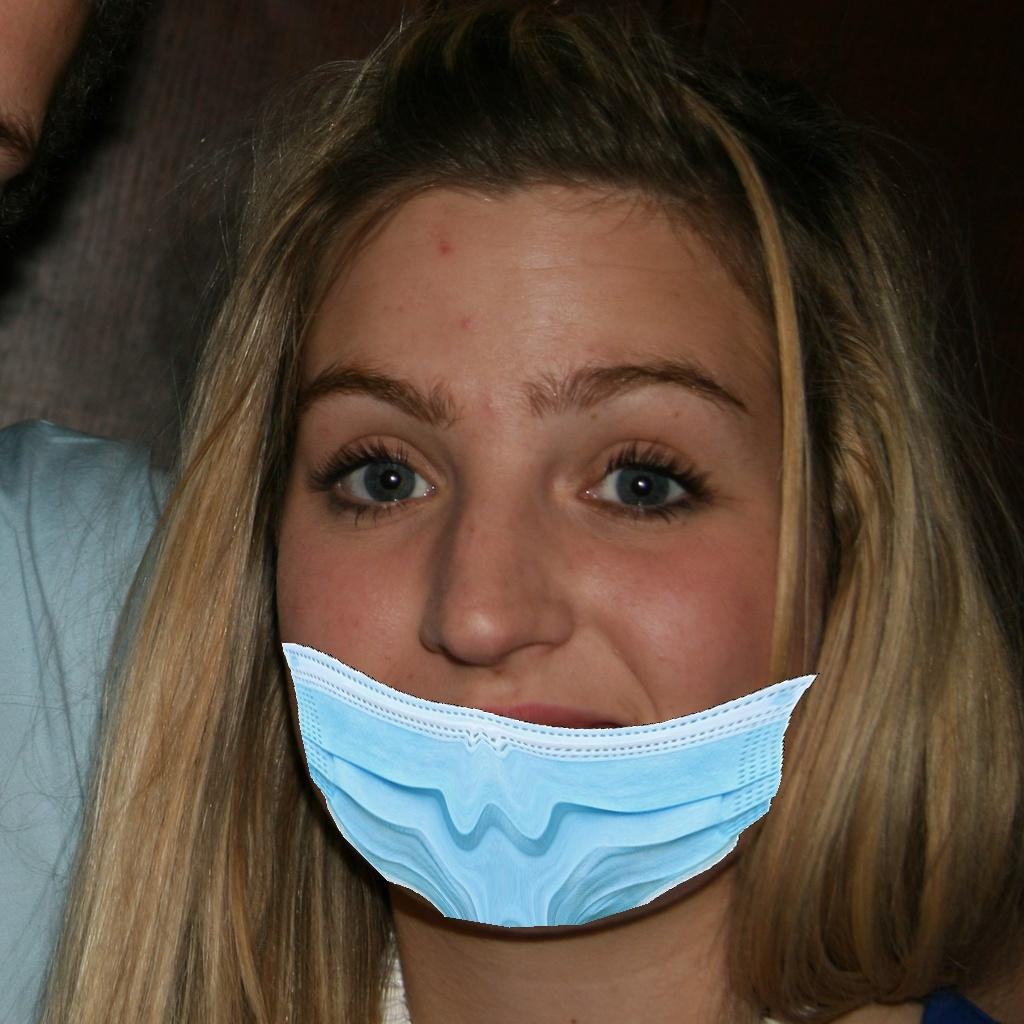Máscara Incorreta: (232, 268, 814, 919)
